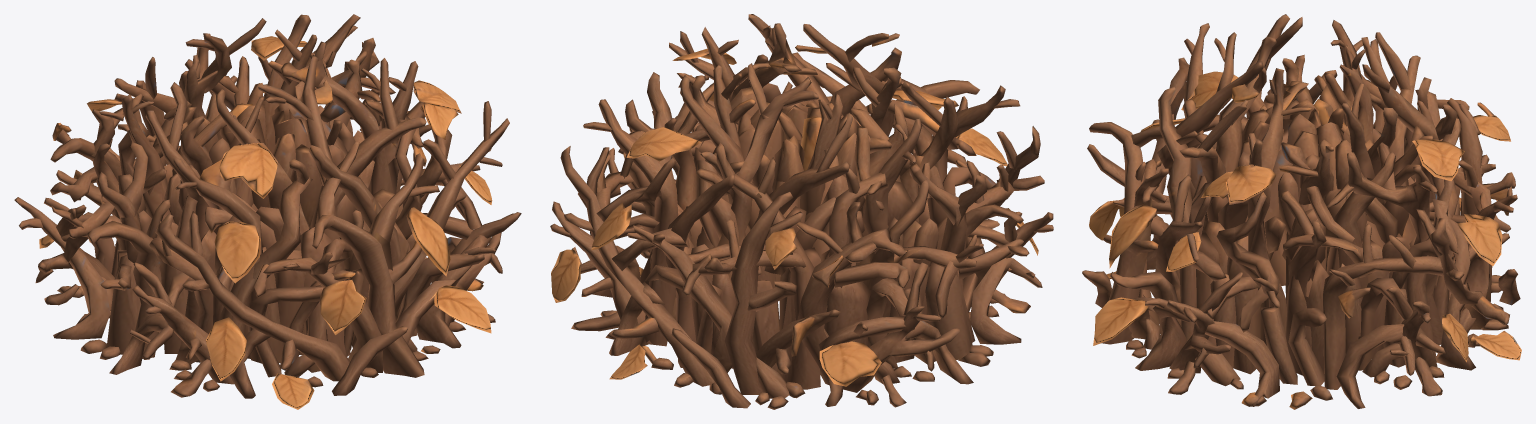
File: seto_seco.glb
3 renders of one model, left to right at view 1: azimuth 30°, elevation 25°; view 2: azimuth 150°, elevation 25°; view 3: azimuth 270°, elevation 25°, orthographic. The views are drawn at different scales.
Visible parts, largest first — view 1: seto_seco; view 2: seto_seco; view 3: seto_seco.
Boxes of the visible parts, <box> form: seto_seco: <box>14,14,521,409</box>; seto_seco: <box>550,14,1053,409</box>; seto_seco: <box>1082,14,1521,409</box>.
Size of the model in its own units: 1 by 0.6612 by 0.9756.
Materials: 1 (1 with a texture image).
